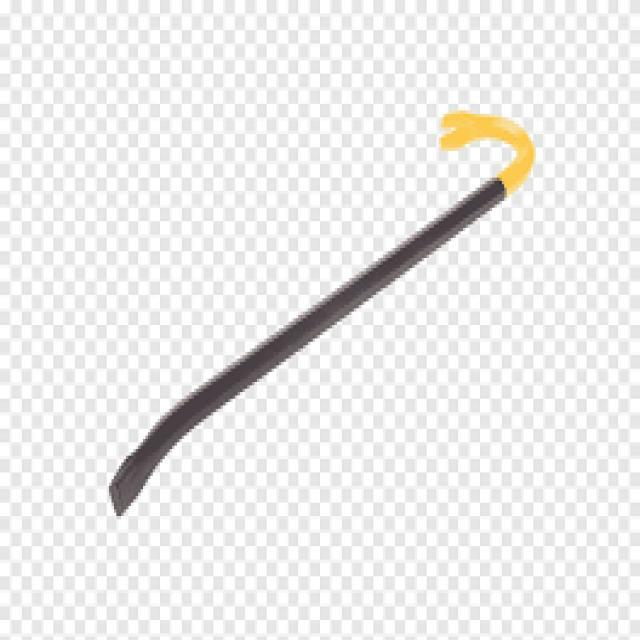Linggis: (94, 97, 538, 520)
